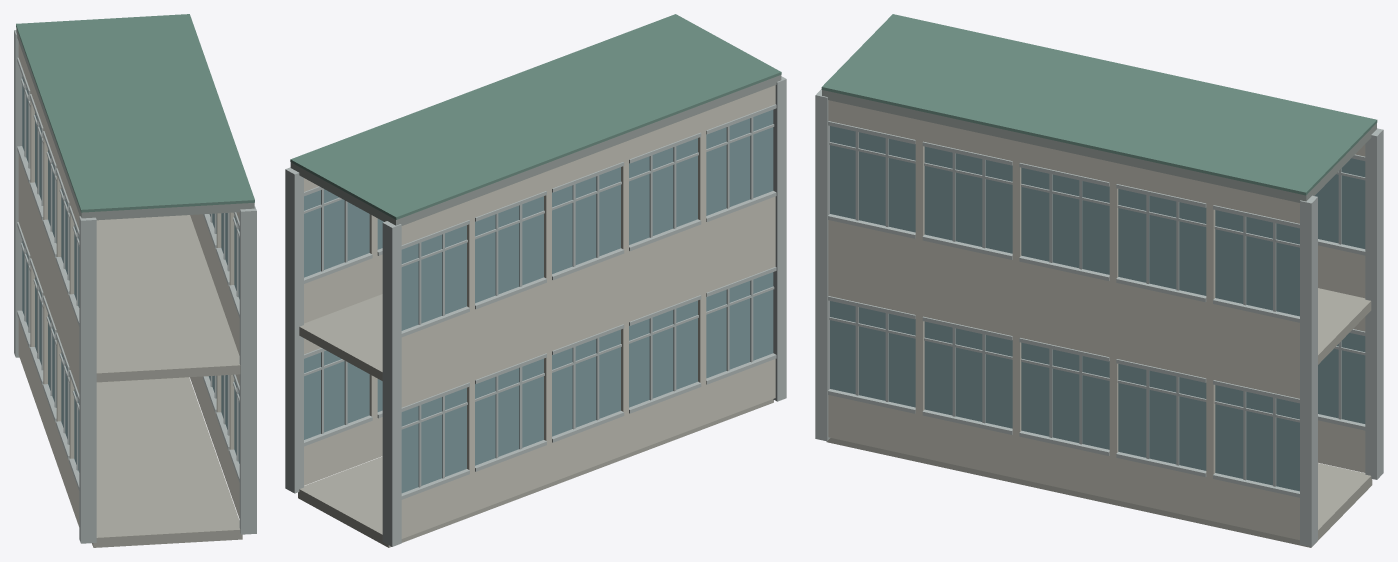
The picture shows the model from 3 angles, left to right: view 1: azimuth 30°, elevation 25°; view 2: azimuth 150°, elevation 25°; view 3: azimuth 270°, elevation 25°; orthographic projection. The views are drawn at different scales.
Parts seen in each view (by area): view 1: bridge__bridge-concrete-floor, bridge__bridge-green-roof, bridge__bridge-aluminium-frame, bridge__bridge-ivory-panel, bridge__bridge-glass, bridge__bridge-edge-flashing; view 2: bridge__bridge-ivory-panel, bridge__bridge-glass, bridge__bridge-green-roof, bridge__bridge-aluminium-frame, bridge__bridge-concrete-floor, bridge__bridge-edge-flashing; view 3: bridge__bridge-ivory-panel, bridge__bridge-glass, bridge__bridge-green-roof, bridge__bridge-aluminium-frame, bridge__bridge-concrete-floor, bridge__bridge-edge-flashing.
Boxes of the visible parts, left/top/right/bottom form: bridge__bridge-concrete-floor: left=92, top=215, right=242, bottom=547; bridge__bridge-green-roof: left=16, top=14, right=254, bottom=212; bridge__bridge-aluminium-frame: left=14, top=30, right=256, bottom=543; bridge__bridge-ivory-panel: left=18, top=42, right=239, bottom=526; bridge__bridge-glass: left=22, top=76, right=239, bottom=472; bridge__bridge-edge-flashing: left=16, top=28, right=254, bottom=220; bridge__bridge-ivory-panel: left=304, top=85, right=775, bottom=538; bridge__bridge-glass: left=304, top=110, right=773, bottom=493; bridge__bridge-green-roof: left=290, top=14, right=781, bottom=219; bridge__bridge-aluminium-frame: left=285, top=76, right=786, bottom=546; bridge__bridge-concrete-floor: left=298, top=294, right=773, bottom=547; bridge__bridge-edge-flashing: left=290, top=75, right=781, bottom=225; bridge__bridge-ivory-panel: left=828, top=100, right=1365, bottom=540; bridge__bridge-glass: left=830, top=126, right=1365, bottom=491; bridge__bridge-green-roof: left=821, top=14, right=1377, bottom=195; bridge__bridge-aluminium-frame: left=815, top=89, right=1383, bottom=546; bridge__bridge-concrete-floor: left=826, top=288, right=1372, bottom=547; bridge__bridge-edge-flashing: left=822, top=90, right=1376, bottom=202.
Size of the model in its own units: 7.16 by 7.97 by 10.74.
